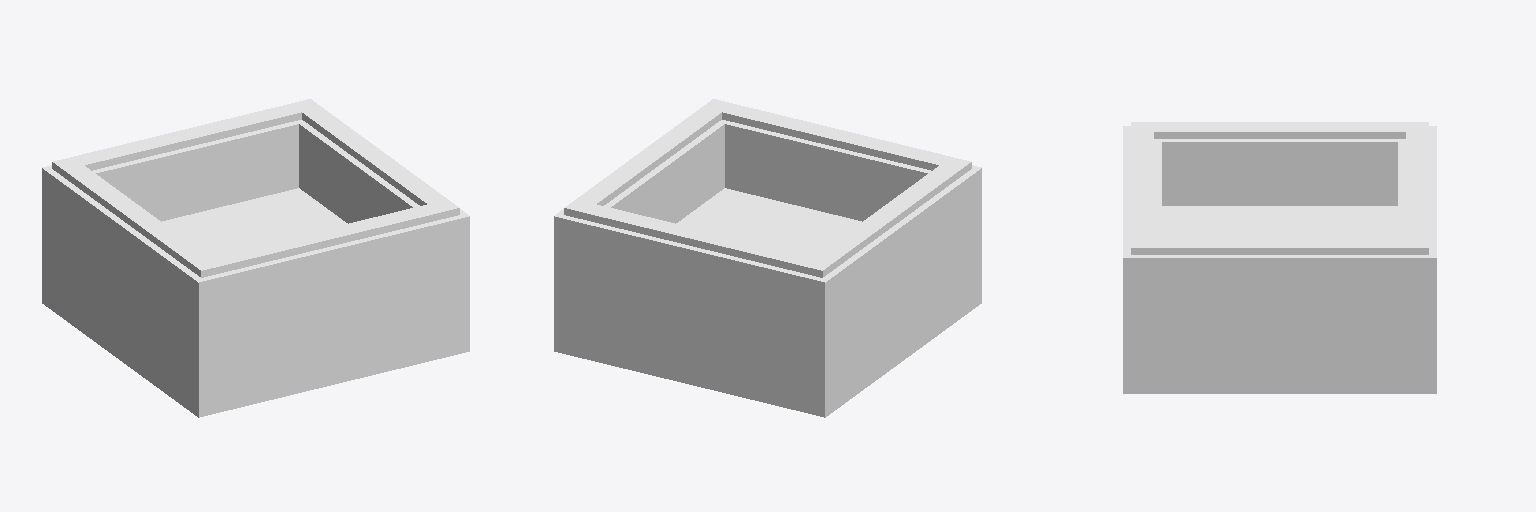
File: Forge01.obj
3 renders of one model, left to right at view 1: azimuth 30°, elevation 25°; view 2: azimuth 150°, elevation 25°; view 3: azimuth 270°, elevation 25°, orthographic.
Parts seen in each view (by area): view 1: object 1; view 2: object 1; view 3: object 1.
Boxes of the visible parts, box(x1,y1,x2,y2) form: object 1: box(42, 99, 469, 417); object 1: box(554, 99, 981, 417); object 1: box(1123, 122, 1436, 393).
Bounding box in the file's own units: 4 × 2 × 4.